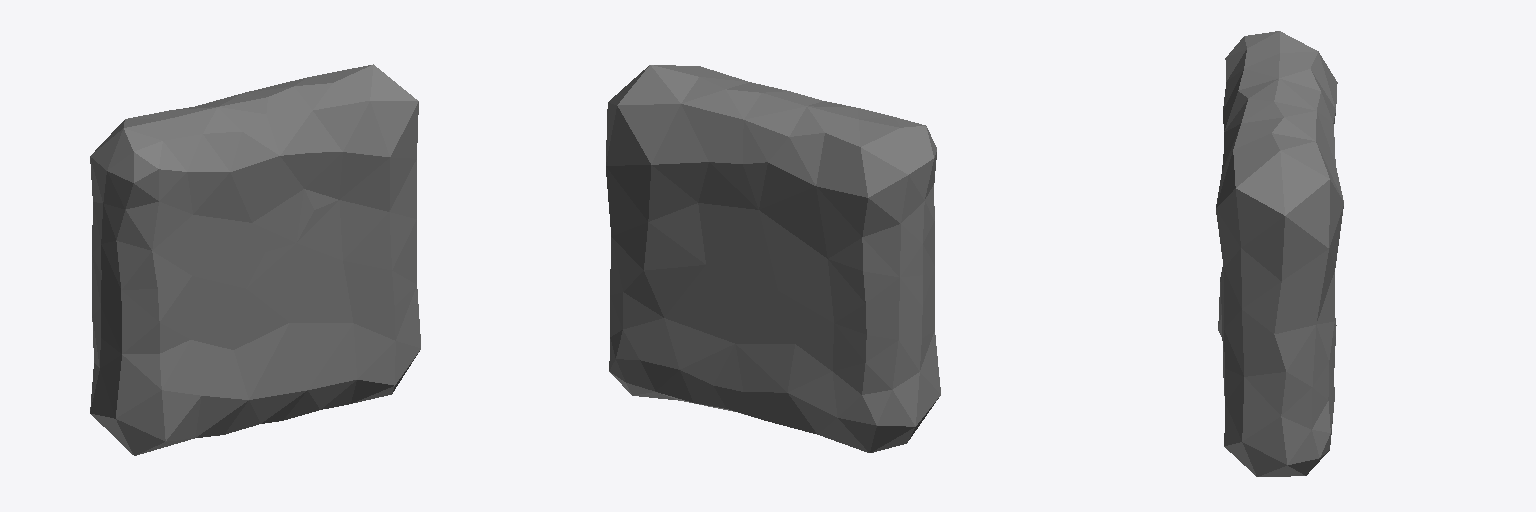
File: StonePlatform_F.obj
3 renders of one model, left to right at view 1: azimuth 30°, elevation 25°; view 2: azimuth 150°, elevation 25°; view 3: azimuth 270°, elevation 25°, orthographic.
Parts seen in each view (by area): view 1: Stone_F; view 2: Stone_F; view 3: Stone_F.
Part boxes in pixels (x1,y1,x2,y2): Stone_F: (90, 64, 420, 455); Stone_F: (606, 65, 940, 452); Stone_F: (1216, 31, 1343, 476).
Size of the model in its own units: 7.55 by 7.45 by 2.67.